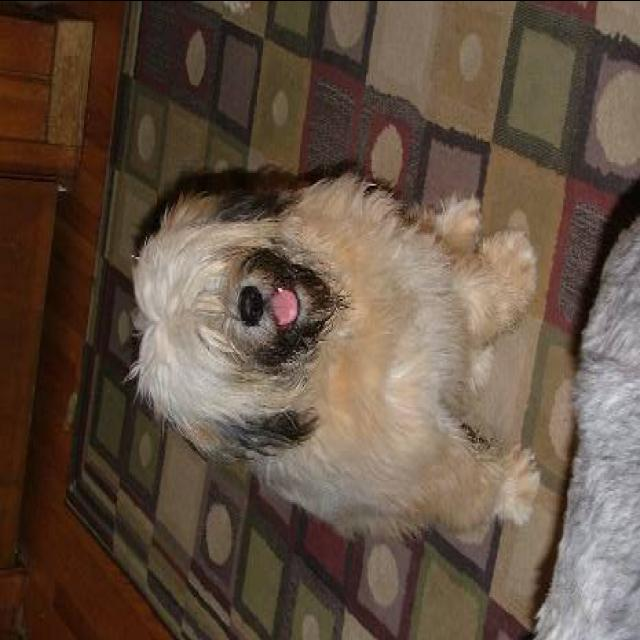dog: (112, 71, 576, 573)
